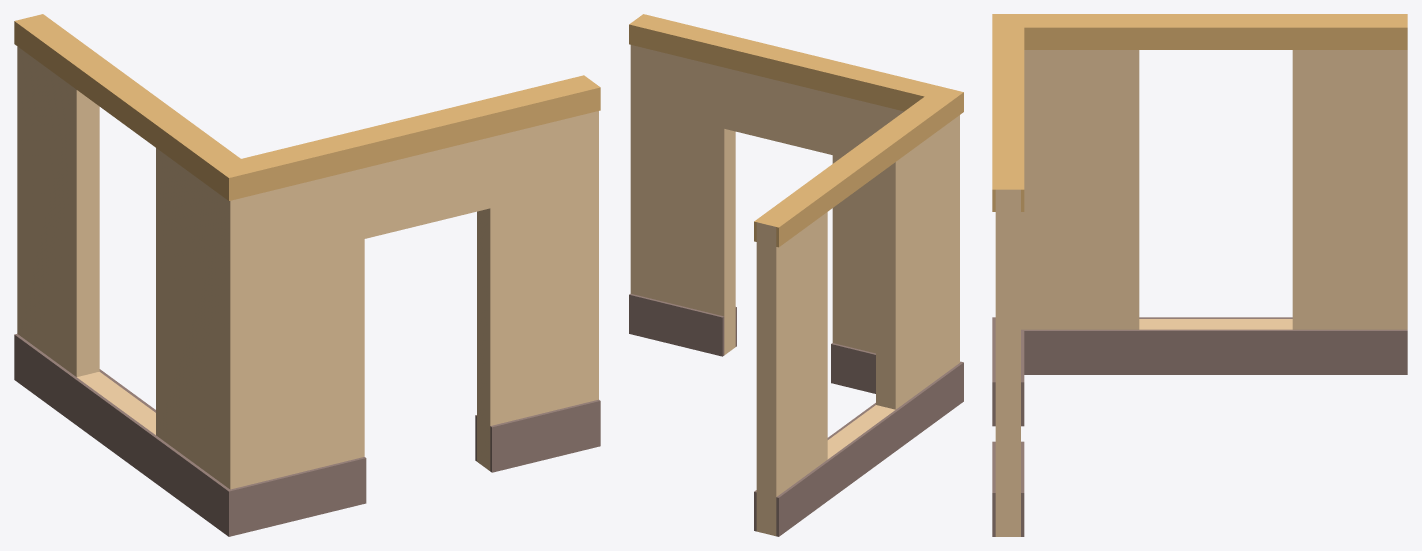
Rendered from Wall02-06.fbx.
3 views of the same model, side by side, from view 1: azimuth 30°, elevation 25°; view 2: azimuth 150°, elevation 25°; view 3: azimuth 270°, elevation 25° (orthographic). The views are drawn at different scales.
Parts seen in each view (by area): view 1: Wall02-06; view 2: Wall02-06; view 3: Wall02-06.
Boxes of the visible parts, box(x1,y1,x2,y2) form: Wall02-06: box(14, 14, 600, 536); Wall02-06: box(629, 14, 963, 536); Wall02-06: box(992, 14, 1407, 536).
Bounding box in the file's own units: 3.25 × 3.25 × 3.
